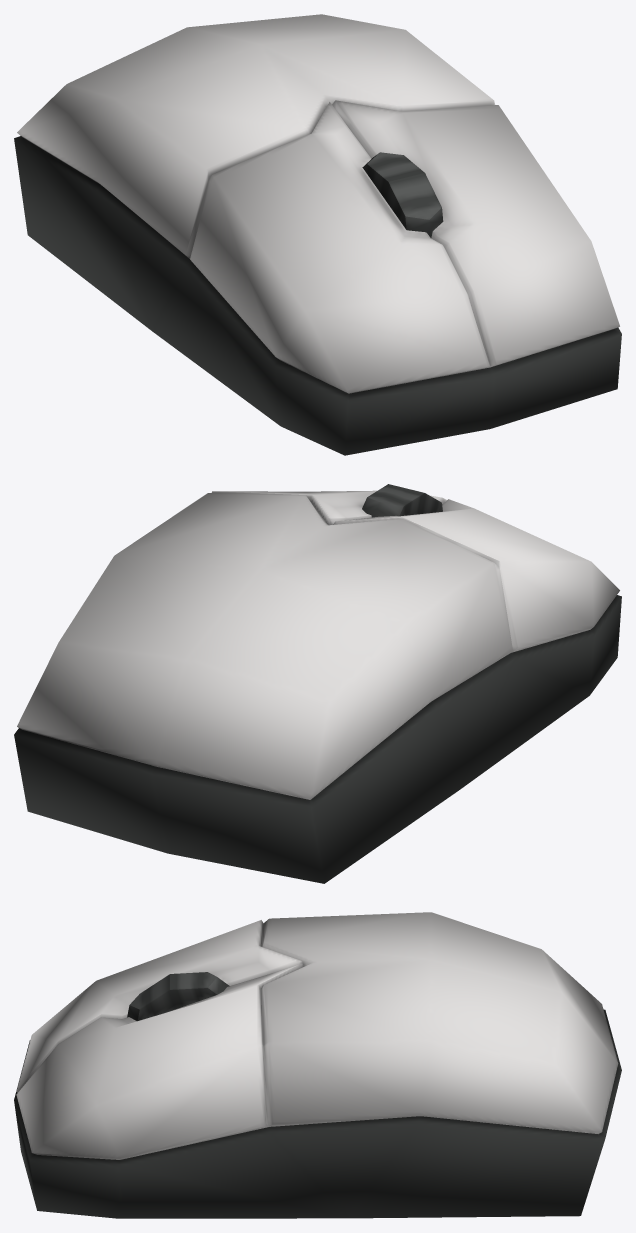
File: mouse.fbx
3 renders of one model, top to bottom at view 1: azimuth 30°, elevation 25°; view 2: azimuth 150°, elevation 25°; view 3: azimuth 270°, elevation 25°, orthographic. The views are drawn at different scales.
Parts seen in each view (by area): view 1: ComputerMouse; view 2: ComputerMouse; view 3: ComputerMouse.
Part boxes in pixels (box(x1,y1,x2,y2)): ComputerMouse: box(14, 14, 621, 455); ComputerMouse: box(14, 484, 621, 883); ComputerMouse: box(14, 912, 621, 1218).
Size of the model in its own units: 242 by 147 by 421.
1 material, 1 textured.
